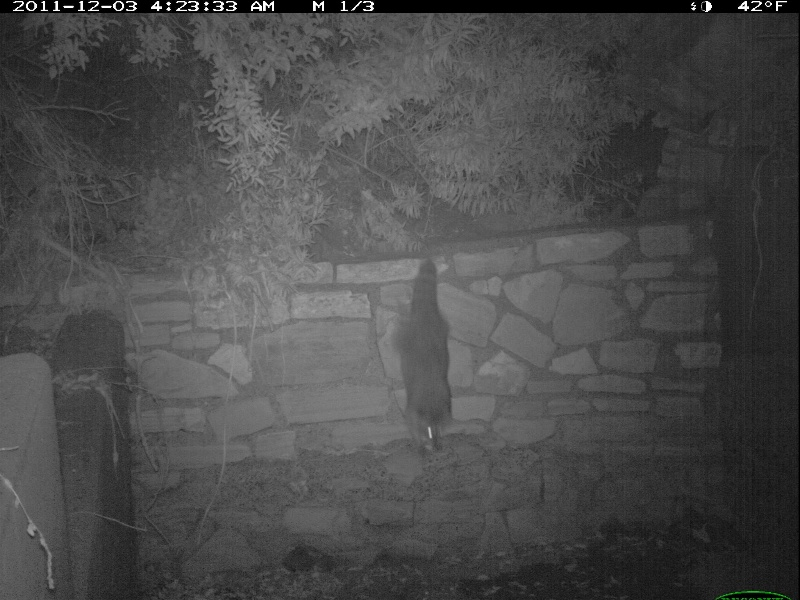raccoon: (395, 254, 459, 458)
